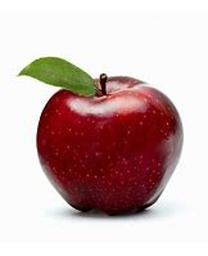apple: (34, 72, 183, 216)
